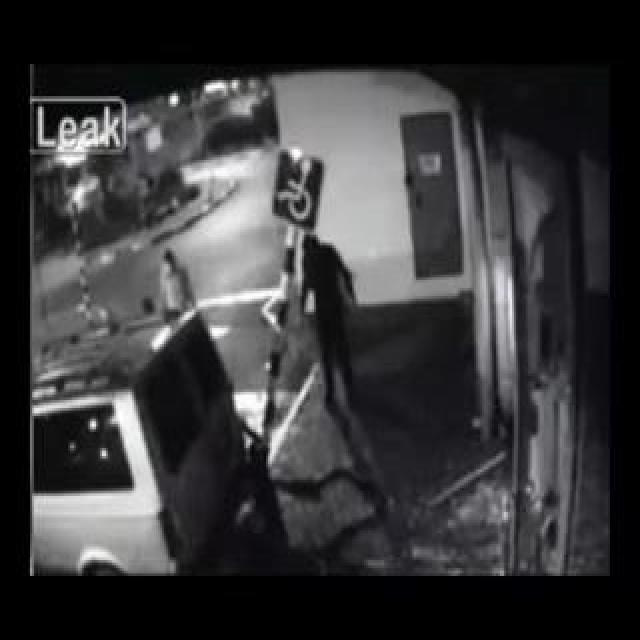thief: (146, 218, 207, 308), (300, 218, 346, 332)
